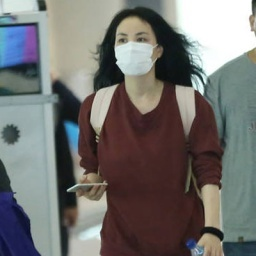correctlyWear: (113, 30, 163, 75)
